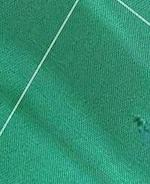knot: (130, 111, 150, 138)
